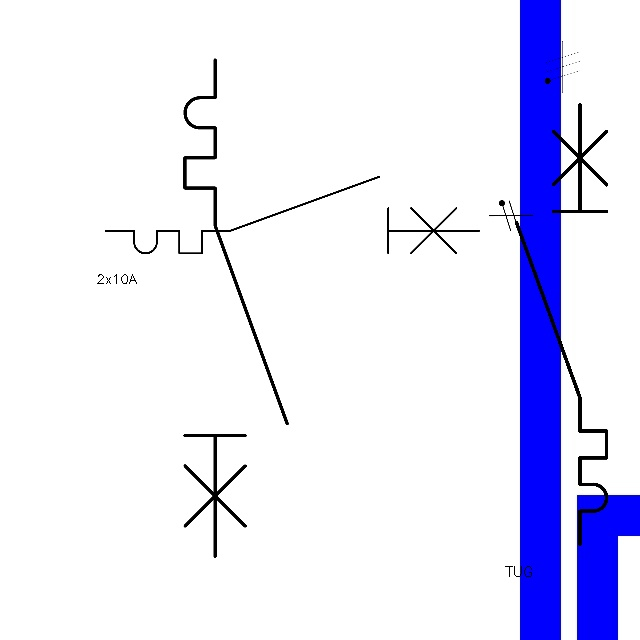interruptor_termomagnetico: (172, 47, 300, 569), (505, 93, 618, 556), (96, 167, 489, 263)
